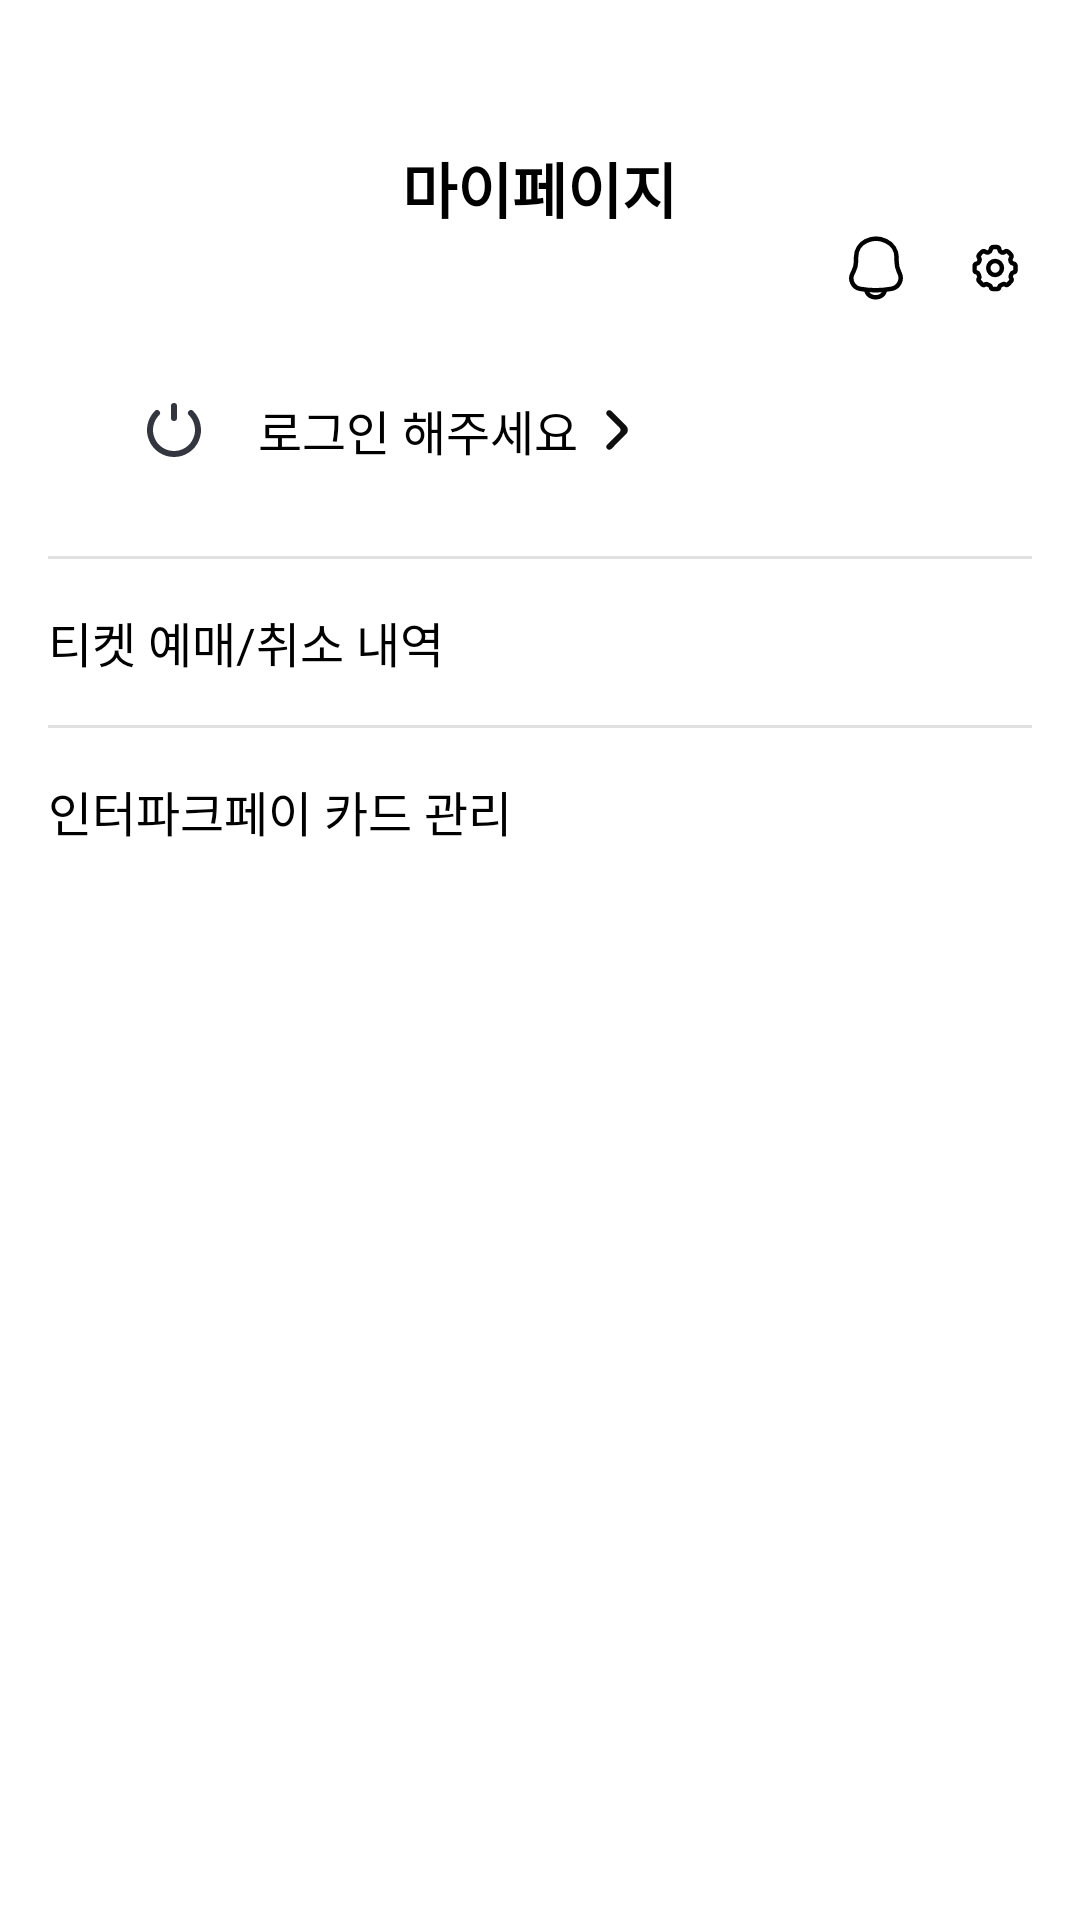

Screen size 1080w x 1920h. Icon name, then its box in pixels as (x1,y1,x2,y2):
chevron right: (606,410,628,450)
설정 아이콘: (972,244,1018,292)
알림 아이콘: (849,236,903,300)
